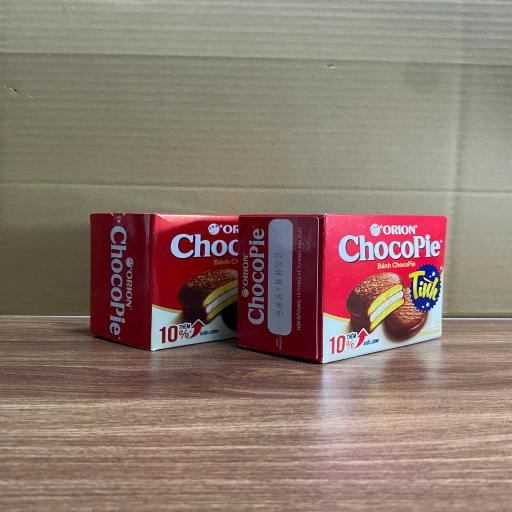chocopie: (236, 214, 446, 366), (91, 213, 242, 351)
